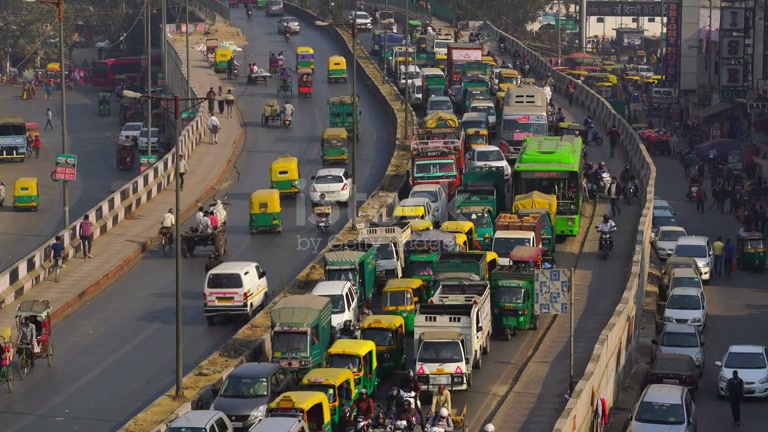bus: (512, 134, 583, 237), (415, 277, 493, 370), (267, 294, 334, 371), (463, 143, 513, 213), (493, 210, 552, 269), (500, 84, 549, 150), (490, 265, 538, 332), (410, 151, 461, 198), (88, 56, 145, 92), (248, 187, 284, 235), (321, 126, 349, 166), (460, 112, 489, 146)
car: (210, 361, 294, 425), (202, 260, 269, 321), (412, 331, 473, 394), (628, 382, 698, 432), (265, 389, 336, 432), (13, 298, 55, 368), (714, 344, 768, 398), (653, 323, 706, 375), (662, 281, 708, 331), (647, 353, 702, 394), (672, 235, 713, 283), (308, 167, 354, 205), (161, 409, 235, 432), (651, 225, 687, 261), (9, 176, 40, 211), (278, 16, 301, 37), (0, 180, 6, 208)
pedestrian: (15, 316, 38, 375), (727, 370, 745, 425), (78, 214, 96, 259), (51, 235, 65, 270), (207, 114, 220, 145)
truck: (248, 187, 284, 235), (0, 115, 30, 163)
